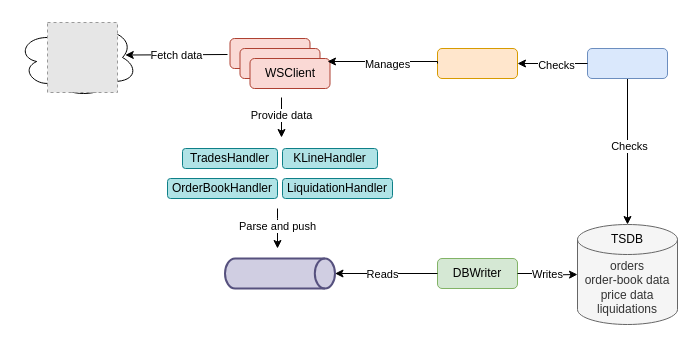
Image size: 695x342. Some labels were removed from this diagram. Grey dashed boxes stand in for pictures. The centre of each missing label's shape, as x and y in pixels:
DataQueue: [280,273]
Supervisor: [477,63]
TelegramBot: [627,63]
